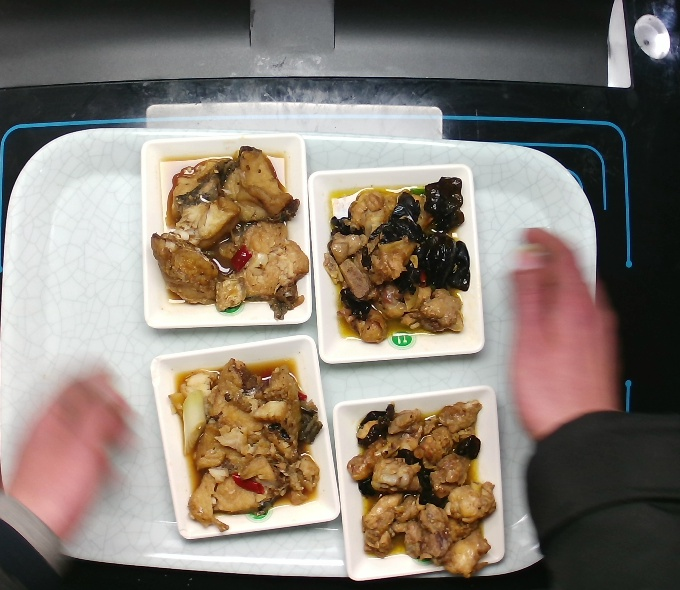wcq-MuErRouKuai: (350, 401, 497, 577), (321, 172, 465, 346)
wcq-YuKuai: (168, 362, 327, 537), (153, 144, 312, 319)
